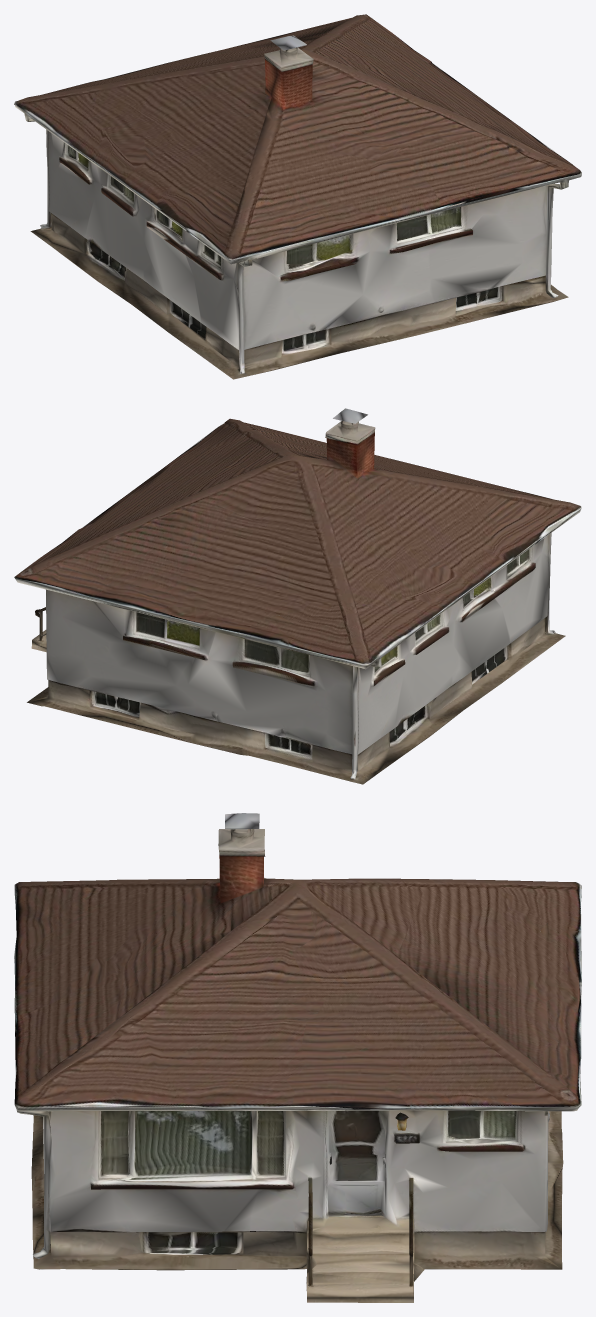
The model's file is lod_house_bungalow.glb.
The picture shows the model from 3 angles, top to bottom: view 1: azimuth 30°, elevation 25°; view 2: azimuth 150°, elevation 25°; view 3: azimuth 270°, elevation 25°; orthographic projection. The views are drawn at different scales.
Visible parts, largest first — view 1: tripo_node_6fe76d44-87a6-47bd-b720-46142d6804cd; view 2: tripo_node_6fe76d44-87a6-47bd-b720-46142d6804cd; view 3: tripo_node_6fe76d44-87a6-47bd-b720-46142d6804cd.
Part boxes in pixels (bbox=[...]): tripo_node_6fe76d44-87a6-47bd-b720-46142d6804cd: bbox=[14, 14, 581, 379]; tripo_node_6fe76d44-87a6-47bd-b720-46142d6804cd: bbox=[14, 408, 581, 784]; tripo_node_6fe76d44-87a6-47bd-b720-46142d6804cd: bbox=[14, 813, 581, 1302].
Size of the model in its own units: 0.9994 by 0.6036 by 0.9435.
1 material, 1 textured.
